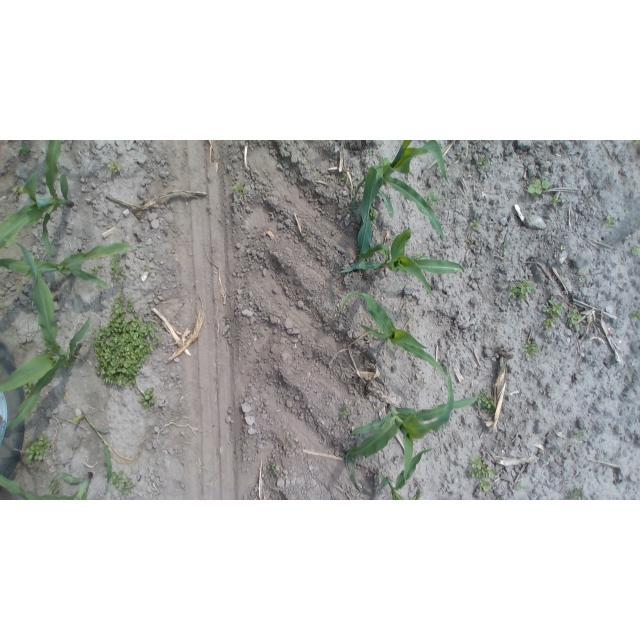Maize: (342, 363, 487, 496), (0, 234, 96, 434), (339, 141, 450, 276), (337, 289, 451, 380), (1, 140, 78, 264), (1, 240, 150, 292), (356, 228, 468, 297), (0, 466, 102, 500), (379, 447, 438, 500)
Weeds: (89, 291, 164, 394), (468, 454, 497, 494), (25, 436, 55, 463), (505, 276, 535, 302), (109, 250, 130, 286), (542, 297, 563, 333), (109, 471, 135, 497), (476, 390, 501, 413), (525, 177, 552, 197), (139, 386, 158, 413), (519, 338, 539, 363), (566, 306, 583, 331), (231, 182, 249, 205), (425, 189, 445, 209), (45, 476, 63, 497), (499, 242, 518, 260), (339, 403, 354, 425), (565, 485, 587, 500), (570, 426, 585, 448), (473, 155, 491, 173), (9, 183, 23, 205), (599, 214, 615, 233), (13, 141, 32, 157), (412, 249, 432, 262), (627, 242, 640, 259), (368, 206, 379, 226), (89, 265, 104, 279), (106, 161, 120, 175), (467, 218, 482, 230), (513, 478, 528, 490), (268, 462, 279, 477), (628, 308, 640, 321), (574, 271, 587, 282), (367, 148, 378, 159), (625, 140, 640, 148), (550, 198, 559, 207), (339, 172, 347, 180), (558, 245, 567, 252)
